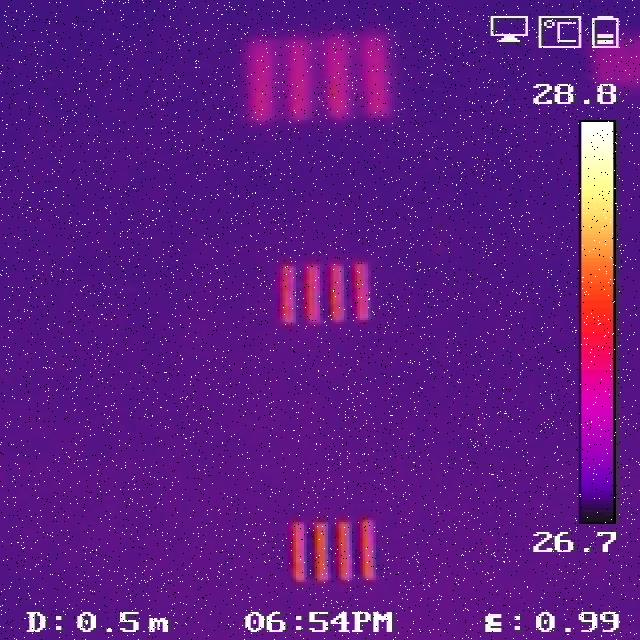Distinguishable 4-bar target: (245, 27, 395, 122), (277, 260, 371, 327), (287, 518, 381, 583)
